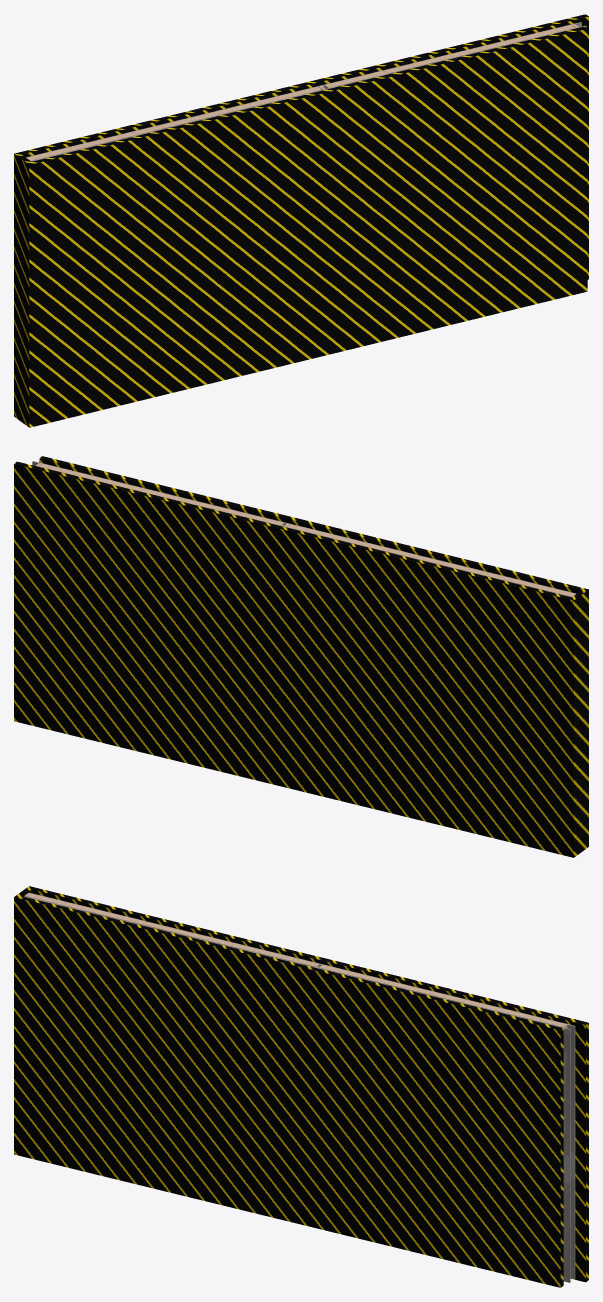
Rendered from WALLSET_D.FBX.
3 renders of one model, top to bottom at view 1: azimuth 30°, elevation 25°; view 2: azimuth 150°, elevation 25°; view 3: azimuth 330°, elevation 25°, orthographic. The views are drawn at different scales.
Parts seen in each view (by area): view 1: SELECTOR_19, WALL_SET_B07, WALL_SET_B06; view 2: SELECTOR_19, WALL_SET_B07, WALL_SET_B06; view 3: SELECTOR_19, WALL_SET_B06, WALL_SET_B07.
Part boxes in pixels (x1,y1,x2,y2): SELECTOR_19: (14, 14, 588, 427); WALL_SET_B07: (26, 24, 578, 160); WALL_SET_B06: (26, 22, 586, 161); SELECTOR_19: (14, 456, 588, 857); WALL_SET_B07: (36, 463, 575, 596); WALL_SET_B06: (32, 461, 576, 597); SELECTOR_19: (14, 886, 588, 1287); WALL_SET_B06: (24, 892, 575, 1282); WALL_SET_B07: (24, 893, 567, 1028).
Bounding box in the file's own units: 205 × 90.28 × 9.6.
